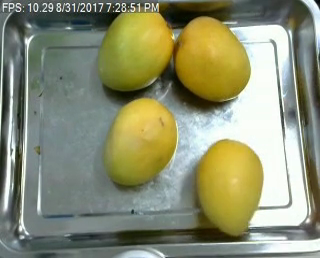Mango: (97, 96, 178, 188), (197, 138, 265, 238), (175, 15, 252, 99), (100, 4, 174, 91)
